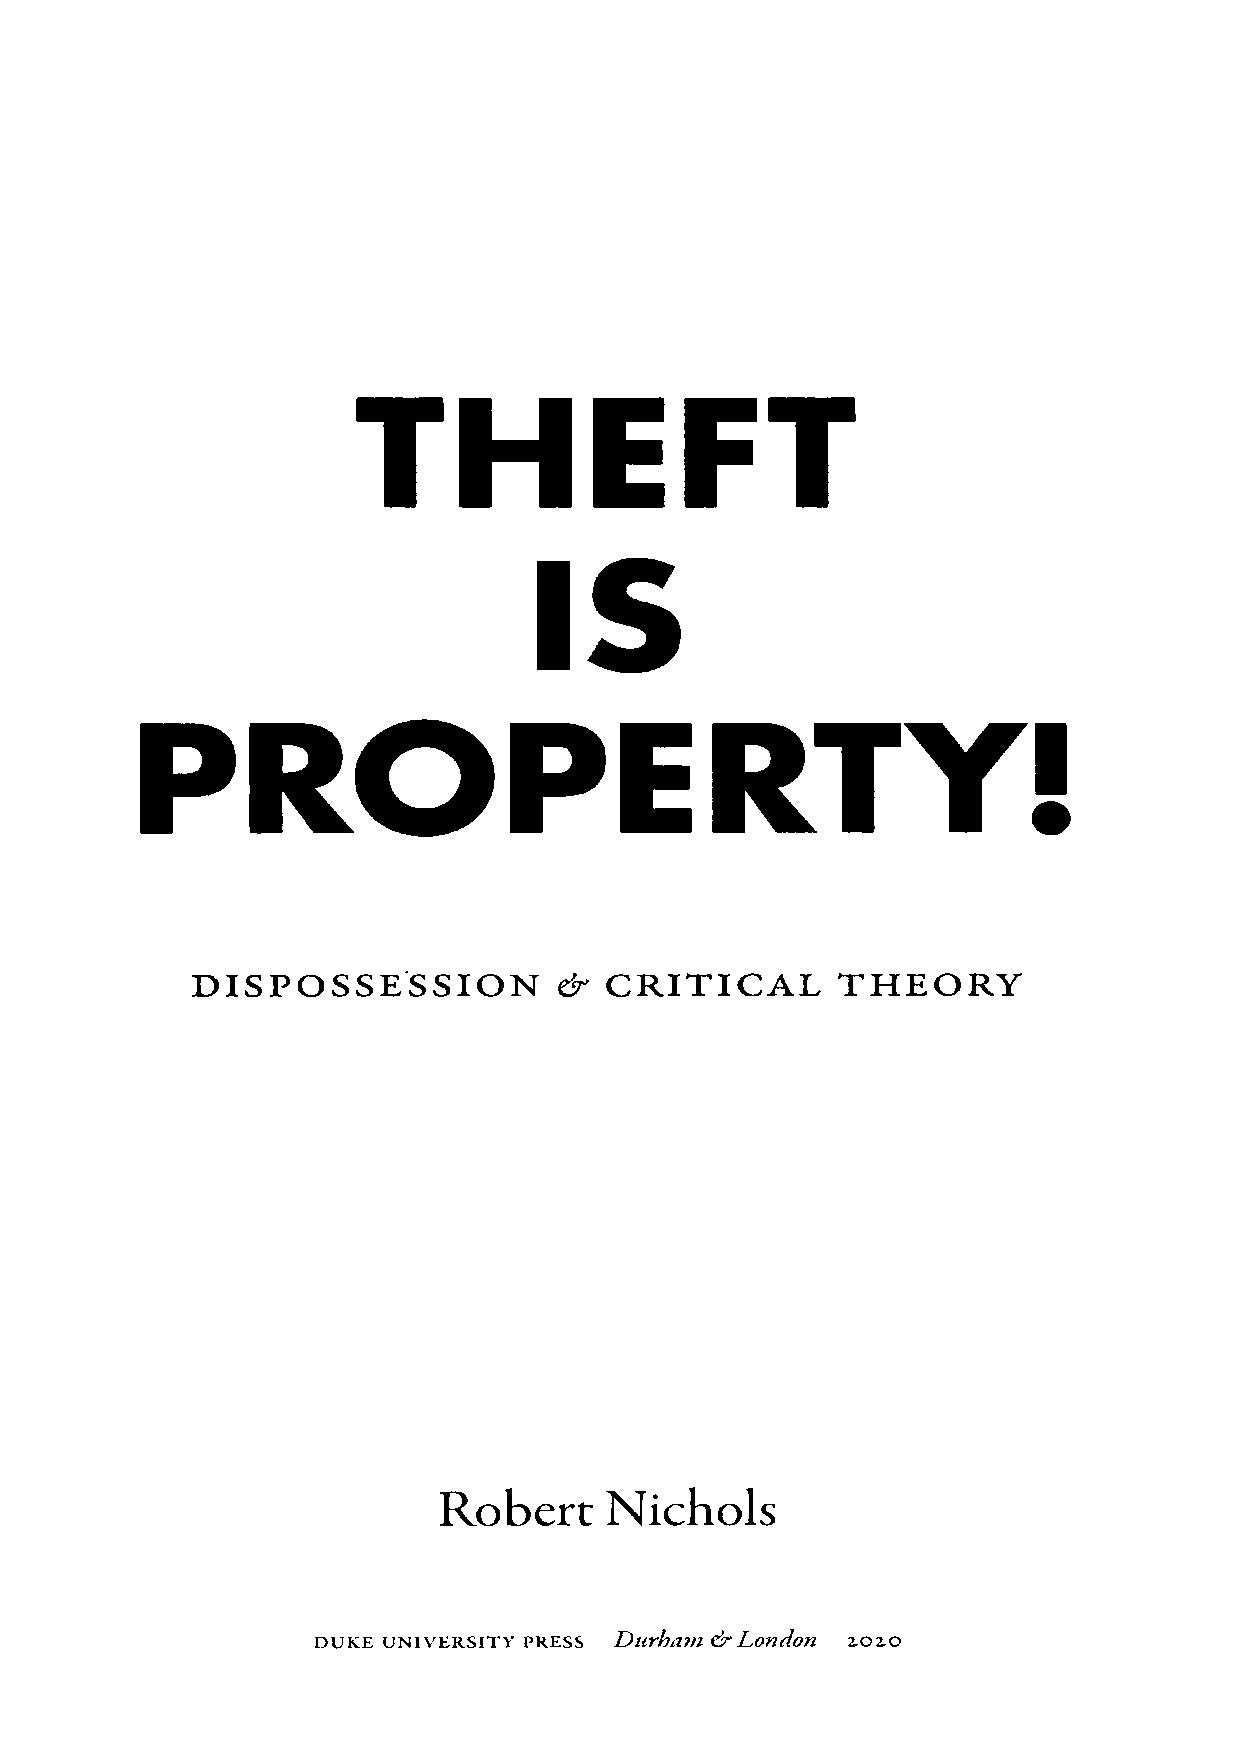author: (433, 1486, 776, 1533)
title: (134, 395, 1068, 837)
